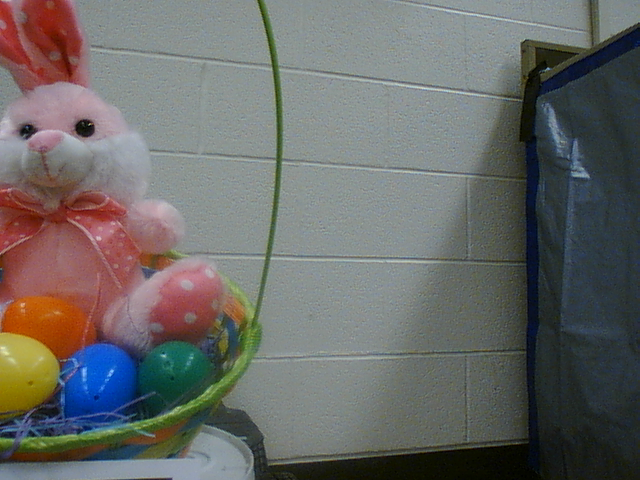bunny: (1, 1, 289, 461)
